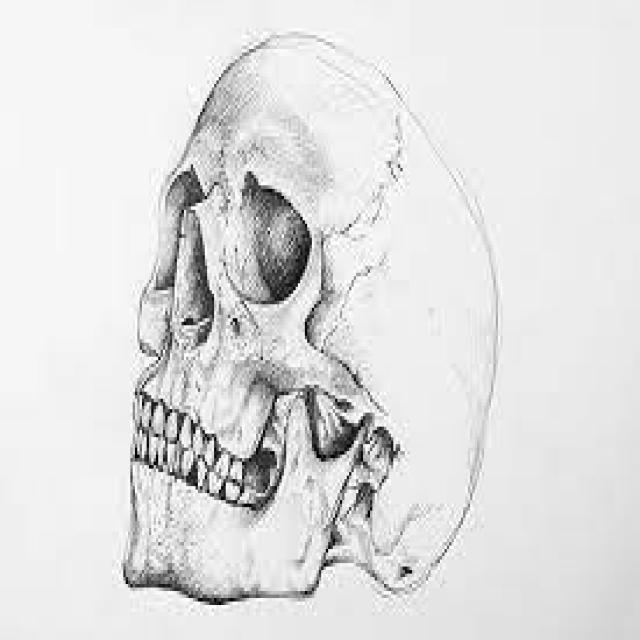skull: (98, 20, 510, 621)
